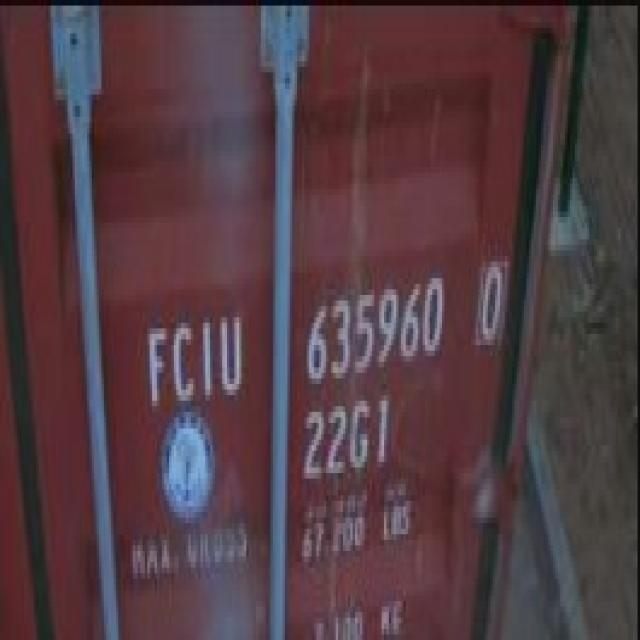dv: (475, 257, 507, 362)
owner: (142, 296, 247, 410)
serial: (298, 267, 448, 388)
size: (296, 395, 392, 485)
